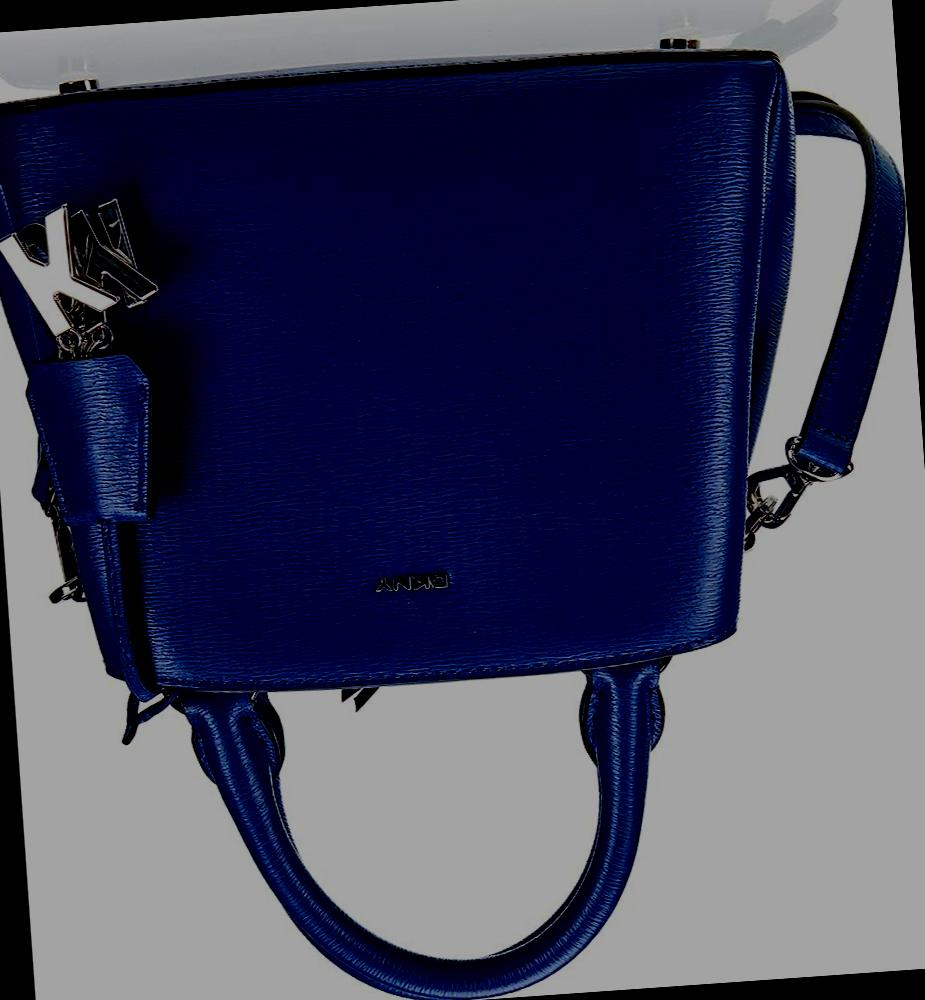DKNY: (372, 572, 446, 592)
